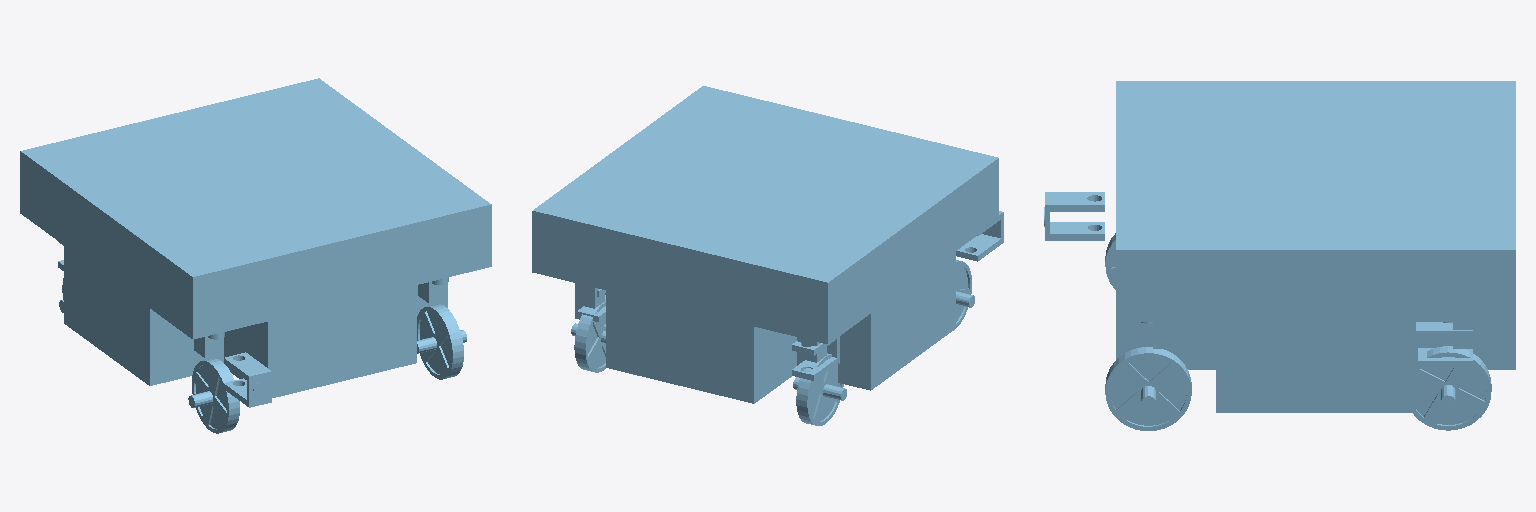
robot.urdf — mobile_base:
<?xml version="1.0" encoding="utf-8"?>
<!-- This URDF was automatically created by SolidWorks to URDF Exporter! Originally created by [author] ([email redacted]) 
     Commit Version: 1.6.0-4-g7f85cfe  Build Version: 1.6.7995.38578
     For more information, please see http://wiki.ros.org/sw_urdf_exporter -->
<robot
  name="mobile_base">
  <link
    name="base_link">
    <inertial>
      <origin
        xyz="-0.000116077702547958 -0.0350031160113934 0.298943810669157"
        rpy="0 0 0" />
      <mass
        value="56"/>
      <inertia
        ixx="5.31"
        ixy="0.0"
        ixz="0.0"
        iyy="5.258"
        iyz="0.0"
        izz="5.310" />
    </inertial>
    <visual>
      <origin
        xyz="0 0 0"
        rpy="0 0 0" />
      <geometry>
        <mesh
          filename="package://mobile_base/meshes/base_link.STL" />
      </geometry>
      <material
        name="">
        <color
          rgba="0.615686274509804 0.811764705882353 0.925490196078431 1" />
      </material>
    </visual>
    <collision>
      <origin
        xyz="0 0 0"
        rpy="0 0 0" />
      <geometry>
        <mesh
          filename="package://mobile_base/meshes/base_link.STL" />
      </geometry>
    </collision>
  </link>
  <link
    name="f_l_prismatic">
    <inertial>
      <origin
        xyz="-1.66533453693773E-16 2.22044604925031E-16 -0.00277737910243356"
        rpy="0 0 0" />
      <mass
        value="0.63" />
      <inertia
        ixx="0.0"
        ixy="0.0"
        ixz="0.0"
        iyy="0.0"
        iyz="0.0"
        izz="0.0" />
    </inertial>
      <visual>
      <origin
        xyz="0 0 0"
        rpy="0 0 0" />
      <geometry>
        <mesh
          filename="package://mobile_base/meshes/f_l_prismatic.STL" />
      </geometry>
      <material
        name="">
        <color
          rgba="0.615686274509804 0.811764705882353 0.929411764705882 1" />
      </material>
    </visual>
    <collision>
      <origin
        xyz="0 0 0"
        rpy="0 0 0" />
      <geometry>
        <mesh
          filename="package://mobile_base/meshes/f_l_prismatic.STL" />
      </geometry>
    </collision>
  </link>
  <joint
    name="f_l_prismatic_joint"
    type="fixed">
    <origin
      xyz="0.2998 -0.33482 0.24287"
      rpy="0.0026114 0.002229 0" /> 
    <parent
      link="base_link" />
    <child
      link="f_l_prismatic" />
    <axis xyz="0 0 1" />
      <limit
      lower="0.01"
      upper="0.05"
      effort="1000"
      velocity="0" />
    <dynamics 
    damping="1"
    friction="0"
    spring_stiffness="0" 
    spring_referance="0" />
  </joint>
  <link
    name="f_l_rotate">
    <inertial>
      <origin
        xyz="-0.000108967571125163 -0.0488863047415668 -0.000127660035035393"
        rpy="0 0 0" />
      <mass
        value="0.35" />
      <inertia
        ixx="0.01"
        ixy="0.0"
        ixz="0.0"
        iyy="0.01"
        iyz="0.0"
        izz="0.0" />
    </inertial>
    <visual>
      <origin
        xyz="0 0 0"
        rpy="0 0 0" />
      <geometry>
        <mesh
          filename="package://mobile_base/meshes/f_1_rotate.STL" />
      </geometry>
      <material
        name="">
        <color
          rgba="0.615686274509804 0.811764705882353 0.929411764705882 1" />
      </material>
    </visual>
    <collision>
      <origin
        xyz="0 0 0"
        rpy="0 0 0" />
      <geometry>
        <mesh
          filename="package://mobile_base/meshes/f_1_rotate.STL" />
      </geometry>
    </collision>
  </link>
  <joint
    name="f_l_rotate_joint"
    type="revolute">
    <origin
      xyz="0 0 -0.0527773791024335"
      rpy="1.56818496671092 -0.00222898866464819 0" />
    <parent
      link="f_l_prismatic" />
    <child
      link="f_l_rotate" />
    <axis
      xyz="0.00222898681890077 0.999994106215458 0.00261135062896505" />
    <limit
      lower="-1.5708"
      upper="1.5708"
      effort="100"
      velocity="100" />
  </joint>
  <link
    name="f_l_ew">
    <inertial>
      <origin
        xyz="0 0 0"
        rpy="0 0 0" />
      <mass
        value="1.89" />
      <inertia
        ixx="018"
        ixy="0.01"
        ixz="0.17"
        iyy="0.34"
        iyz="0.01"
        izz="0.18" />
    </inertial>
    <visual>
      <origin
        xyz="0 0 0"
        rpy="0 0 0" />
      <geometry>
        <mesh
          filename="package://mobile_base/meshes/f_l_ew.STL" />
      </geometry>
      <material
        name="">
        <color
          rgba="0.615686274509804 0.811764705882353 0.929411764705882 1" />
      </material>
    </visual>
    <collision>
      <origin
        xyz="0 0 0"
        rpy="0 0 0" />
      <geometry>
        <mesh
          filename="package://mobile_base/meshes/f_l_ew.STL" />
      </geometry>
    </collision>
  </link>
  <joint
    name="f_l_ew_joint"
    type="continuous">
    <origin
      xyz="-0.000222898681890127 -0.0999994106215459 -0.000261135062896545"
      rpy="3.13936402790797 -1.57065442321589 0" />
    <parent
      link="f_l_rotate" />
    <child
      link="f_l_ew" />
    <axis
      xyz="0 0 1" />
    <limit
      effort="1000"
      velocity="100000" />
  </joint>
  <link
    name="f_r_prismatic">
    <inertial>
      <origin
        xyz="-1.11022302462516E-16 1.11022302462516E-16 -0.0027773791024335"
        rpy="0 0 0" />  
      <mass
        value="0.63" />
      <inertia
        ixx="0.0"
        ixy="0.0"
        ixz="0.0"
        iyy="0.0"
        iyz="0.0"
        izz="0.0" />
    </inertial>
     <visual>
      <origin
        xyz="0 0 0"
        rpy="0 0 0" />
      <geometry>
        <mesh
          filename="package://mobile_base/meshes/f_r_prismatic.STL" />
      </geometry>
      <material
        name="">
        <color
          rgba="0.615686274509804 0.811764705882353 0.929411764705882 1" />
      </material>
    </visual>
    <collision>
      <origin
        xyz="0 0 0"
        rpy="0 0 0" />
      <geometry>
        <mesh
          filename="package://mobile_base/meshes/f_r_prismatic.STL" />
      </geometry>
    </collision>
  </link>
  <joint
    name="f_r_prismatic_joint"
    type="fixed">
    <origin
      xyz="-0.3002 -0.3349 0.24421"
      rpy="0.0026114 0.002229 0" />
    <parent
      link="base_link" />
    <child
      link="f_r_prismatic" />
    <axis
      initial_position = "500"
      xyz="0 0 1" />
    <limit
      lower="0.01"
       upper="0.05"
      effort="1000"
      velocity="0" />
    <dynamics 
    damping="1"  
    friction="0"
    spring_stiffness="0" 
    spring_referance="0"/>
  </joint>
  <link
    name="f_r_rotate">
    <inertial>
      <origin
        xyz="-0.000108967571125163 -0.0488863047415668 -0.000127660035035393"
        rpy="0 0 0" />
      <mass
        value="0.35" />
      <inertia
        ixx="01"
        ixy="0.0"
        ixz="0.0"
        iyy="1"
        iyz="0.0"
        izz="0.0" />
    </inertial>
    <visual>
      <origin
        xyz="0 0 0"
        rpy="0 0 0" />
      <geometry>
        <mesh
          filename="package://mobile_base/meshes/f_r_rotate.STL" />
      </geometry>
      <material
        name="">
        <color
          rgba="0.615686274509804 0.811764705882353 0.929411764705882 1" />
      </material>
    </visual>
    <collision>
      <origin
        xyz="0 0 0"
        rpy="0 0 0" />
      <geometry>
        <mesh
          filename="package://mobile_base/meshes/f_r_rotate.STL" />
      </geometry>
    </collision>
  </link>
  <joint
    name="f_r_rotate_joint"
    type="revolute">
    <origin
      xyz="0 0 -0.0527773791024335"
      rpy="1.56818496671092 -0.00222898866464819 0" />
    <parent
      link="f_r_prismatic" />
    <child
      link="f_r_rotate" />
    <axis
      xyz="0.00222898681890077 0.999994106215458 0.00261135062896505" />
    <limit
      lower="-1.5708"
      upper="1.5708"
      effort="100"
      velocity="100" />
  </joint>
   <link
    name="f_r_ew">
    <inertial>
      <origin
        xyz="5.55111512312578E-17 0 0"
        rpy="0 0 0" />
      <mass
        value="1.89" />
      <inertia
        ixx="018"
        ixy="0.01"
        ixz="0.17"
        iyy="0.34"
        iyz="0.01"
        izz="0.18" />
    </inertial>
    <visual>
      <origin
        xyz="0 0 0"
        rpy="0 0 0" />
      <geometry>
        <mesh
          filename="package://mobile_base/meshes/f_r_ew.STL" />
      </geometry>
      <material
        name="">
        <color
          rgba="0.615686274509804 0.811764705882353 0.929411764705882 1" />
      </material>
    </visual>
    <collision>
      <origin
        xyz="0 0 0"
        rpy="0 0 0" />
      <geometry>
        <mesh
          filename="package://mobile_base/meshes/f_r_ew.STL" />
      </geometry>
     </collision>
   </link>
  <joint
    name="f_r_ew_joint"
    type="continuous">
    <origin
      xyz="-0.000222898681890127 -0.0999994106215459 -0.000261135062896545"
      rpy="3.13936402790797 -1.57065442321589 0" />
    <parent
      link="f_r_rotate" />
    <child
      link="f_r_ew" />
    <axis
      xyz="0 0 1" />
    <limit
      effort="1000"
      velocity="100000" />
  </joint>
  <link
    name="r_r_prismatic">
    <inertial>
      <origin
        xyz="-5.55111512312578E-17 1.11022302462516E-16 -0.00277737910243359"
        rpy="0 0 0" />
      <mass
        value="0.63" />
      <inertia
        ixx="0.0"
        ixy="0.0"
        ixz="0.0"
        iyy="0.0"
        iyz="0.0"
        izz="0.0" />
    </inertial>

    <visual>
      <origin
        xyz="0 0 0"
        rpy="0 0 0" />
      <geometry>
        <mesh
          filename="package://mobile_base/meshes/r_r_prismatic.STL" />
      </geometry>
      <material
        name="">
        <color
          rgba="0.615686274509804 0.811764705882353 0.929411764705882 1" />
      </material>
    </visual>
    <collision>
      <origin
        xyz="0 0 0"
        rpy="0 0 0" />
      <geometry>
        <mesh
          filename="package://mobile_base/meshes/r_r_prismatic.STL" />
      </geometry>
    </collision>
  </link>
  <joint
    name="r_r_prismatic_joint"
    type="fixed">
    <origin
      xyz="-0.30028 0.2651 0.24578"
      rpy="0.0026114 0.002229 0" /> 
    <parent
      link="base_link" />
    <child
      link="r_r_prismatic" />
    <axis
      
      xyz="0 0 1" />
    <limit
      lower="0.01"
       upper="0.05"
      effort="1000"
      velocity="0" />
    <dynamics 
    damping="1"
    friction="0"
    spring_stiffness="0" 
    spring_referance="0" />
  </joint>
  <link
    name="r_r_rotate">
    <inertial>
      <origin
        xyz="-0.000108967571125107 -0.0488863047415668 -0.000127660035035393"
        rpy="0 0 0" />
      <mass
        value="0.35" />
      <inertia
        ixx="0.01"
        ixy="0.0"
        ixz="0.0"
        iyy="0.01"
        iyz="0.0"
        izz="0.0" />
    </inertial>
    <visual>
      <origin
        xyz="0 0 0"
        rpy="0 0 0" />
      <geometry>
        <mesh
          filename="package://mobile_base/meshes/r_r_rotate.STL" />
      </geometry>
      <material
        name="">
        <color
          rgba="0.615686274509804 0.811764705882353 0.929411764705882 1" />
      </material>
    </visual>
    <collision>
      <origin
        xyz="0 0 0"
        rpy="0 0 0" />
      <geometry>
        <mesh
          filename="package://mobile_base/meshes/r_r_rotate.STL" />
      </geometry>
    </collision>
  </link>
  <joint
    name="r_r_rotate_joint"
    type="revolute">
    <origin
      xyz="0 0 -0.0527773791024335"
      rpy="1.56818496671092 -0.00222898866464819 0" />
    <parent
      link="r_r_prismatic" />
    <child
      link="r_r_rotate" />
    <axis
      xyz="0.00222898681890077 0.999994106215458 0.00261135062896505" />
    <limit
      lower="-1.5708" 
      upper="1.5708"
      effort="100"
      velocity="100" />
  </joint>
   <link
    name="r_r_ew">
    <inertial>
      <origin
        xyz="0 0 0"
        rpy="0 0 0" />
      <mass
        value="1.89" />
      <inertia
        ixx="018"
        ixy="0.01"
        ixz="0.17"
        iyy="0.34"
        iyz="0.01"
        izz="0.18" />
    </inertial>
    <visual>
      <origin
        xyz="0 0 0"
        rpy="0 0 0" />
      <geometry>
        <mesh
          filename="package://mobile_base/meshes/r_r_ew.STL" />
      </geometry>
      <material
        name="">
        <color
          rgba="0.615686274509804 0.811764705882353 0.929411764705882 1" />
      </material>
    </visual>
    <collision>
      <origin
        xyz="0 0 0"
        rpy="0 0 0" />
      <geometry>
        <mesh
          filename="package://mobile_base/meshes/r_r_ew.STL" />
      </geometry>
    </collision>
  </link>
  <joint
    name="r_r_ew_joint"
    type="continuous">
    <origin
      xyz="-0.000222898681890127 -0.0999994106215459 -0.000261135062896489"
      rpy="3.13936402790797 -1.57065442321589 0" />
    <parent
      link="r_r_rotate" />
    <child
      link="r_r_ew" />
    <axis
      xyz="0 0 1" />
   <limit
      effort="1000"
      velocity="100000" />
  </joint>
  <link
    name="r_l_prismatic">
    <inertial>
      <origin
        xyz="0 1.66533453693773E-16 -0.0027773791024335"
        rpy="0 0 0" />
      <mass
        value="0.63" />
      <inertia
        ixx="0.0"
        ixy="0.0"
        ixz="0.0"
        iyy="0.0"
        iyz="0.0"
        izz="0.0" />
    </inertial>
 
    <visual>
      <origin
        xyz="0 0 0"
        rpy="0 0 0" />
      <geometry>
        <mesh
          filename="package://mobile_base/meshes/r_l_prismatic.STL" />
      </geometry>
      <material
        name="">
        <color
          rgba="0.615686274509804 0.811764705882353 0.929411764705882 1" />
      </material>
    </visual>
    <collision>
      <origin
        xyz="0 0 0"
        rpy="0 0 0" />
      <geometry>
        <mesh
          filename="package://mobile_base/meshes/r_l_prismatic.STL" />
      </geometry>
    </collision>
  </link>

  <joint
    name="r_l_prismatic_joint"
    type="fixed">
    <origin
      xyz="0.299720607952755 0.265181054293093 0.24444162435061"
      rpy="0.00261136657109324 0.00222898106467852 0" /> 
    <parent
      link="base_link" />
    <child
      link="r_l_prismatic" />
    <axis
      xyz="0 0 1" />
    <limit
      lower="0.01"
      upper="0.05"
      effort="1000"
      velocity="0" />
    <dynamics 
      damping="1"
      friction="0"
      spring_stiffness="0" 
      spring_referance="0"
      />
  </joint>
   <link
    name="r_l_rotate">
    <inertial>
      <origin
        xyz="-0.000108967571125052 -0.0488863047415668 -0.000127660035035393"
        rpy="0 0 0" />
      <mass
        value="0.35" />
      <inertia
        ixx="0.01"
        ixy="0.0"
        ixz="0.0"
        iyy="0.01"
        iyz="0.0"
        izz="0.0" />
    </inertial>
    <visual>
      <origin
        xyz="0 0 0"
        rpy="0 0 0" />
      <geometry>
        <mesh
          filename="package://mobile_base/meshes/r_l_rotate.STL" />
      </geometry>
      <material
        name="">
        <color
          rgba="0.615686274509804 0.811764705882353 0.929411764705882 1" />
      </material>
    </visual>
    <collision>
      <origin
        xyz="0 0 0"
        rpy="0 0 0" />
      <geometry>
        <mesh
          filename="package://mobile_base/meshes/r_l_rotate.STL" />
      </geometry>
    </collision>
  </link>
  <joint
    name="r_l_rotate_joint"
    type="revolute">
    <origin
      xyz="0 0 -0.0527773791024335"
      rpy="1.56818496671092 -0.00222898866464819 0" />
    <parent
      link="r_l_prismatic" />
    <child
      link="r_l_rotate" />
    <axis
      xyz="0.00222898681890077 0.999994106215458 0.00261135062896505" />
    <limit
      lower="-1.5708"
      upper="1.5708"
      effort="100"
      velocity="100" />
  </joint>
  <link
    name="r_l_ew">
    <inertial>
      <origin
        xyz="0 1.38777878078145E-17 0"
        rpy="0 0 0" />
      <mass
        value="1.89" />
      <inertia
        ixx="018"
        ixy="0.01"
        ixz="0.17"
        iyy="0.34"
        iyz="0.01"
        izz="0.18" />
    </inertial>
    <visual>
      <origin
        xyz="0 0 0"
        rpy="0 0 0" />
      <geometry>
        <mesh
          filename="package://mobile_base/meshes/r_l_ew.STL" />
      </geometry>
      <material
        name="">
        <color
          rgba="0.615686274509804 0.811764705882353 0.929411764705882 1" />
      </material>
    </visual>
    <collision>
      <origin
        xyz="0 0 0"
        rpy="0 0 0" />
      <geometry>
        <mesh
          filename="package://mobile_base/meshes/r_l_ew.STL" />
      </geometry>
    </collision>
  </link>
 <joint
    name="r_l_ew_joint"
    type="continuous">
    <origin
      xyz="-0.000222898681890127 -0.0999994106215459 -0.000261135062896489"
      rpy="3.13936402790797 -1.57065442321589 0" />
      
    <parent
      link="r_l_rotate" />
    <child
      link="r_l_ew" />
    <axis
      xyz="0 0 1" />
    <limit
      effort="1000"
      velocity="100000" />
  </joint>


  <transmission name="f_l_ew_trans">
    <type>transmission_interface/SimpleTransmission</type>
    <joint name="f_l_ew_joint">
      <hardwareInterface>hardware_interface/VelocityJointInterface</hardwareInterface>
    </joint>
    <actuator name="f_l_ew_motor">
      <hardwareInterface>hardware_interface/VelocityJointInterface</hardwareInterface>
      <mechanicalReduction>1</mechanicalReduction>
    </actuator>
  </transmission>
  
  <transmission name="f_r_ew_trans">
    <type>transmission_interface/SimpleTransmission</type>
    <joint name="f_r_ew_joint">
      <hardwareInterface>hardware_interface/VelocityJointInterface</hardwareInterface>
    </joint>
    <actuator name="f_r_ew_motor">
      <hardwareInterface>hardware_interface/VelocityJointInterface</hardwareInterface>
      <mechanicalReduction>1</mechanicalReduction>
    </actuator>
  </transmission>
  
  <transmission name="r_l_ew_trans">
    <type>transmission_interface/SimpleTransmission</type>
    <joint name="r_l_ew_joint">
      <hardwareInterface>hardware_interface/VelocityJointInterface</hardwareInterface>
    </joint>
    <actuator name="r_l_ew_motor">
      <hardwareInterface>hardware_interface/VelocityJointInterface</hardwareInterface>
      <mechanicalReduction>1</mechanicalReduction>
    </actuator>
  </transmission>
  
  <transmission name="r_r_ew_trans">
    <type>transmission_interface/SimpleTransmission</type>
    <joint name="r_r_ew_joint">
      <hardwareInterface>hardware_interface/VelocityJointInterface</hardwareInterface>
    </joint>
    <actuator name="r_r_ew_motor">
      <hardwareInterface>hardware_interface/VelocityJointInterface</hardwareInterface>
      <mechanicalReduction>1</mechanicalReduction>
    </actuator>
  </transmission>

  <!--  -->
  <transmission name="f_l_rotate_trans">
    <type>transmission_interface/SimpleTransmission</type>
    <joint name="f_l_rotate_joint">
      <hardwareInterface>hardware_interface/PositionJointInterface</hardwareInterface>
    </joint>
    <actuator name="f_l_rotate_motor">
      <hardwareInterface>hardware_interface/PositionJointInterface</hardwareInterface>
      <mechanicalReduction>1</mechanicalReduction>
    </actuator>
  </transmission>
  
  <transmission name="f_r_rotate_trans">
    <type>transmission_interface/SimpleTransmission</type>
    <joint name="f_r_rotate_joint">
      <hardwareInterface>hardware_interface/PositionJointInterface</hardwareInterface>
    </joint>
    <actuator name="f_r_rotate_motor">
      <hardwareInterface>hardware_interface/PositionJointInterface</hardwareInterface>
      <mechanicalReduction>1</mechanicalReduction>
    </actuator>
  </transmission>
  
  <transmission name="r_l_rotate_trans">
    <type>transmission_interface/SimpleTransmission</type>
    <joint name="r_l_rotate_joint">
      <hardwareInterface>hardware_interface/PositionJointInterface</hardwareInterface>
    </joint>
    <actuator name="r_l_rotate_motor">
      <hardwareInterface>hardware_interface/PositionJointInterface</hardwareInterface>
      <mechanicalReduction>1</mechanicalReduction>
    </actuator>
  </transmission>
  
  <transmission name="r_r_rotate_trans">
    <type>transmission_interface/SimpleTransmission</type>
    <joint name="r_r_rotate_joint">
      <hardwareInterface>hardware_interface/PositionJointInterface</hardwareInterface>
    </joint>
    <actuator name="r_r_rotate_motor">
      <hardwareInterface>hardware_interface/PositionJointInterface</hardwareInterface>
      <mechanicalReduction>1</mechanicalReduction>
    </actuator>
  </transmission>




  <gazebo>
    <plugin name="gazebo_ros_control" filename="libgazebo_ros_control.so">
     <robotNamespace>/mobile_base</robotNamespace>
     <robotSimType>gazebo_ros_control/DefaultRobotHWSim</robotSimType>
    </plugin>
  </gazebo> 
  
 
</robot>

--- What the picture shows (computed from the rendered views, not written in the file) ---
The picture shows the robot from 3 angles, left to right: view 1: azimuth 30°, elevation 25°; view 2: azimuth 150°, elevation 25°; view 3: azimuth 270°, elevation 25°; orthographic projection.
Robot: mobile_base — 13 links, 12 joints (4 revolute, 4 continuous, 4 fixed); root link base_link; default pose: all joints at 0.
Links seen in each view (by area): view 1: base_link, f_l_ew, f_r_ew, f_r_rotate; view 2: base_link, r_r_ew, r_l_ew, f_r_rotate, r_r_rotate, f_r_ew; view 3: base_link, f_l_ew, r_l_ew, f_r_rotate, r_l_rotate.
Boxes of the visible links, x1,y1,x2,y2 form: base_link: (20,78,491,397); f_l_ew: (417,304,466,379); f_r_ew: (188,358,239,433); f_r_rotate: (224,352,271,407); base_link: (532,86,998,403); r_r_ew: (793,353,846,425); r_l_ew: (571,299,605,372); f_r_rotate: (956,211,1003,261); r_r_rotate: (792,336,839,380); f_r_ew: (953,260,974,330); base_link: (1116,81,1515,412); f_l_ew: (1105,347,1191,430); r_l_ew: (1413,346,1491,430); f_r_rotate: (1044,192,1104,240); r_l_rotate: (1416,322,1472,367).
Bounding box of the posed robot: 0.8 × 0.9427 × 0.4413 m (x, y, z).
Meshes: 13 distinct files referenced, 11 mesh visuals loaded (11 binary STL); not drawn: 2 (reference not matched to a file when rendering).